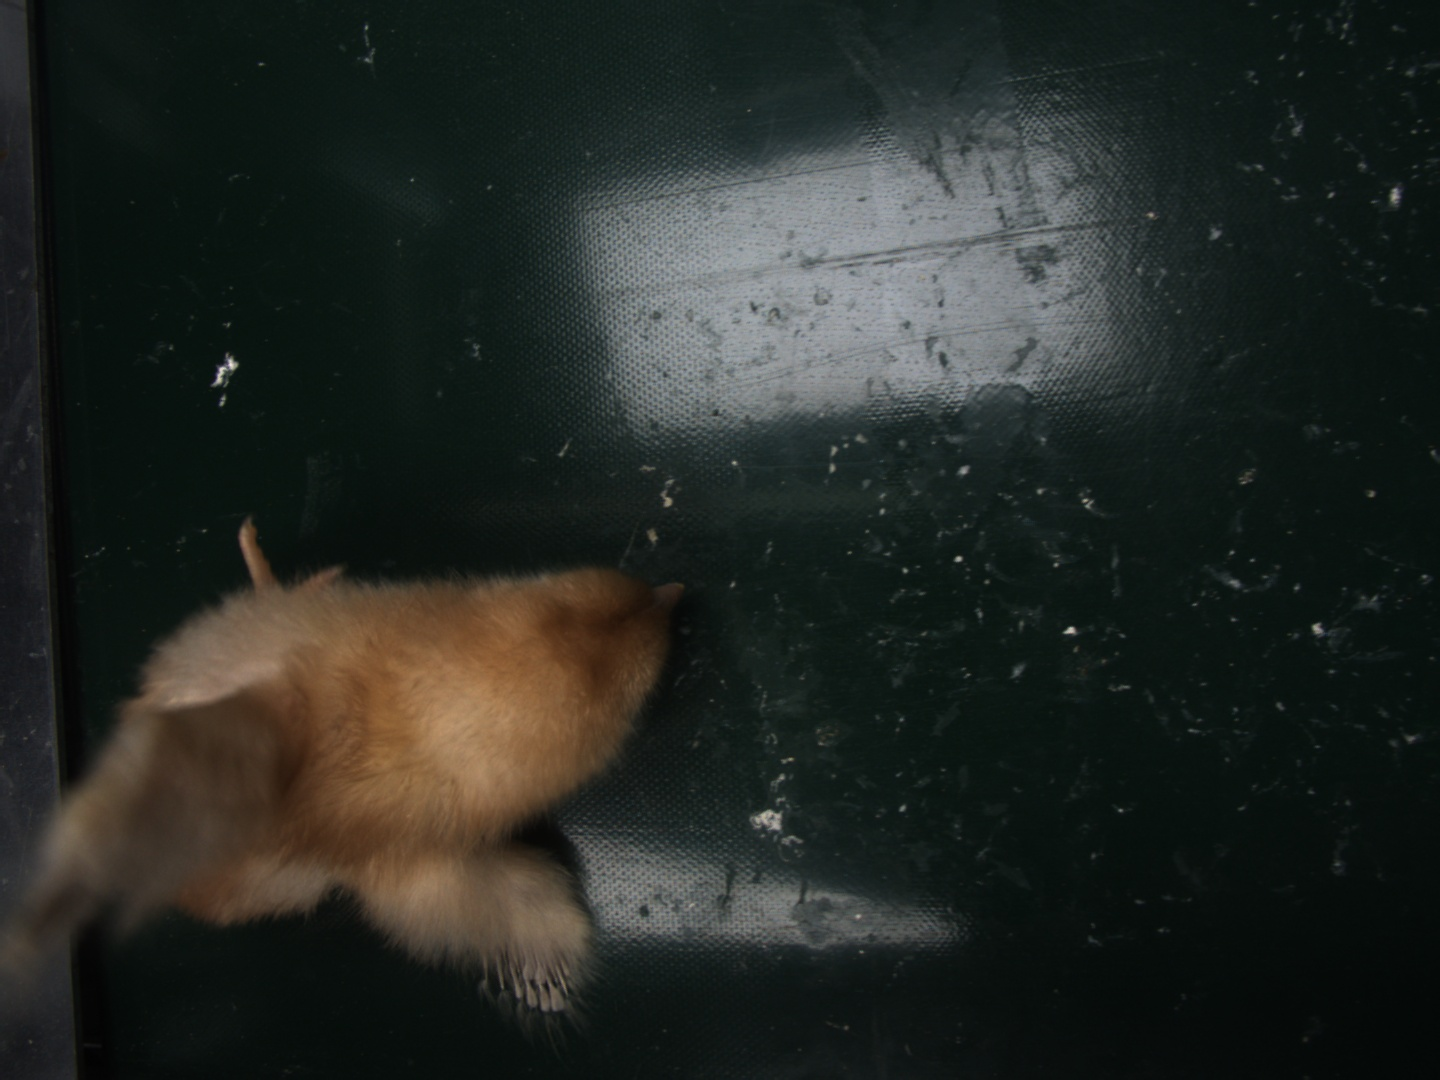female: (478, 943, 571, 1014)
